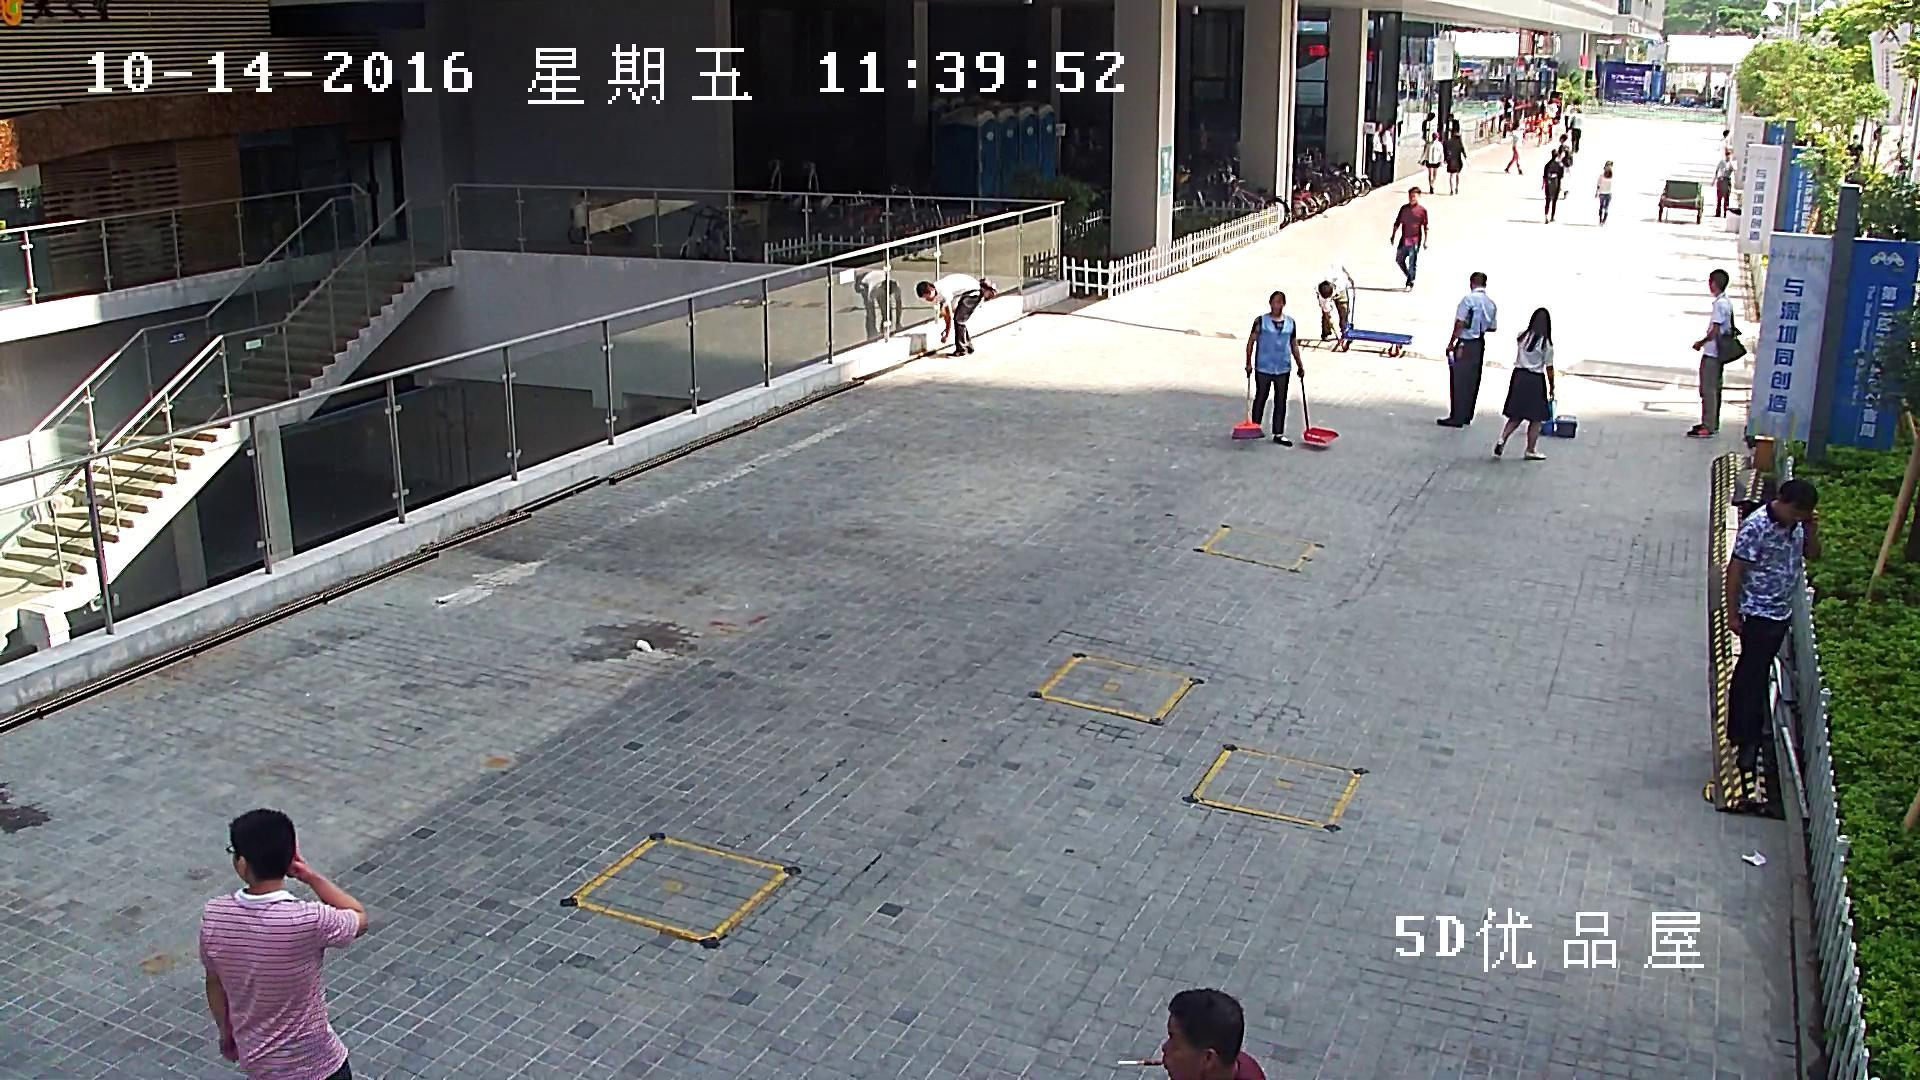person: (201, 808, 367, 1080), (1726, 479, 1821, 746), (1231, 289, 1340, 448), (1686, 268, 1745, 437), (1436, 272, 1497, 427), (1313, 261, 1412, 356), (1494, 307, 1555, 460), (1245, 290, 1303, 446), (916, 274, 994, 356), (1390, 187, 1428, 291), (1313, 262, 1355, 341), (855, 271, 902, 339), (1542, 149, 1564, 223), (1712, 150, 1735, 218), (1443, 128, 1466, 194), (1418, 133, 1442, 192), (1595, 160, 1613, 223), (1503, 122, 1523, 174), (1371, 119, 1384, 185), (1381, 121, 1394, 180), (1566, 107, 1582, 151), (1556, 134, 1573, 168), (1846, 135, 1862, 163), (1444, 114, 1460, 139), (1421, 113, 1434, 140), (1668, 83, 1676, 103), (1713, 84, 1719, 105)
